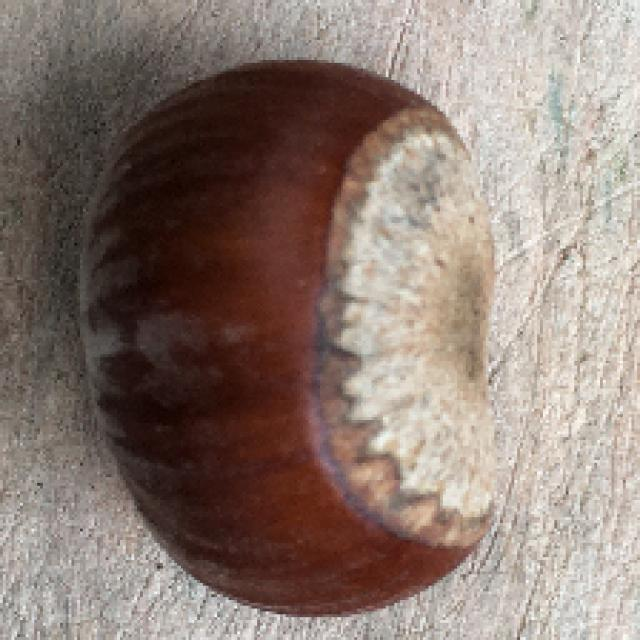qualityHazelnut: (74, 58, 506, 616)
